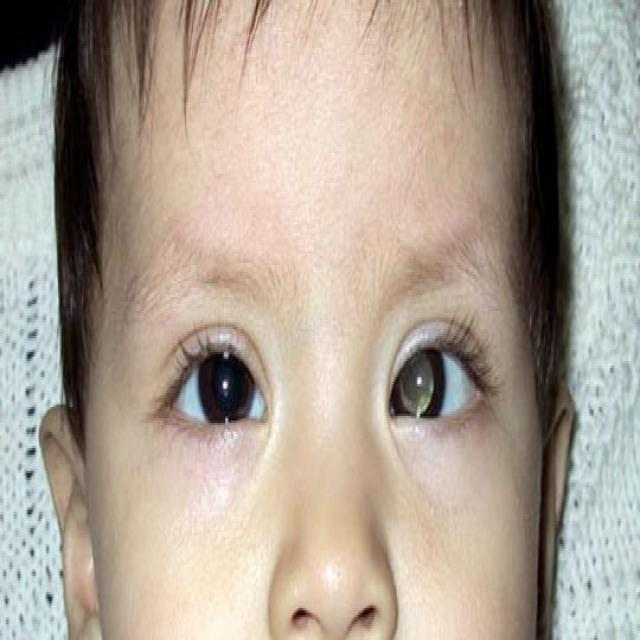reflexo-alterado: (152, 312, 284, 478), (386, 309, 496, 452)
